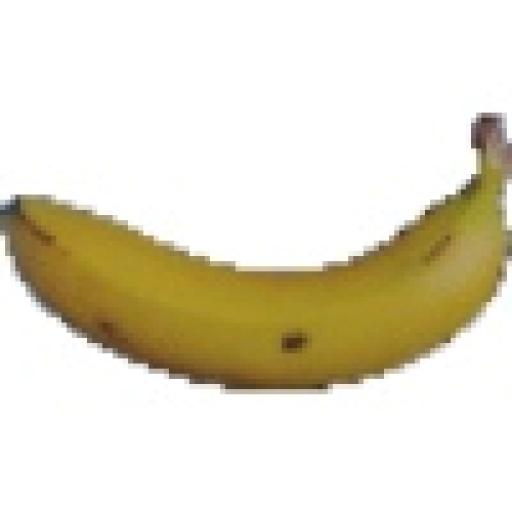banana: (5, 118, 511, 389)
